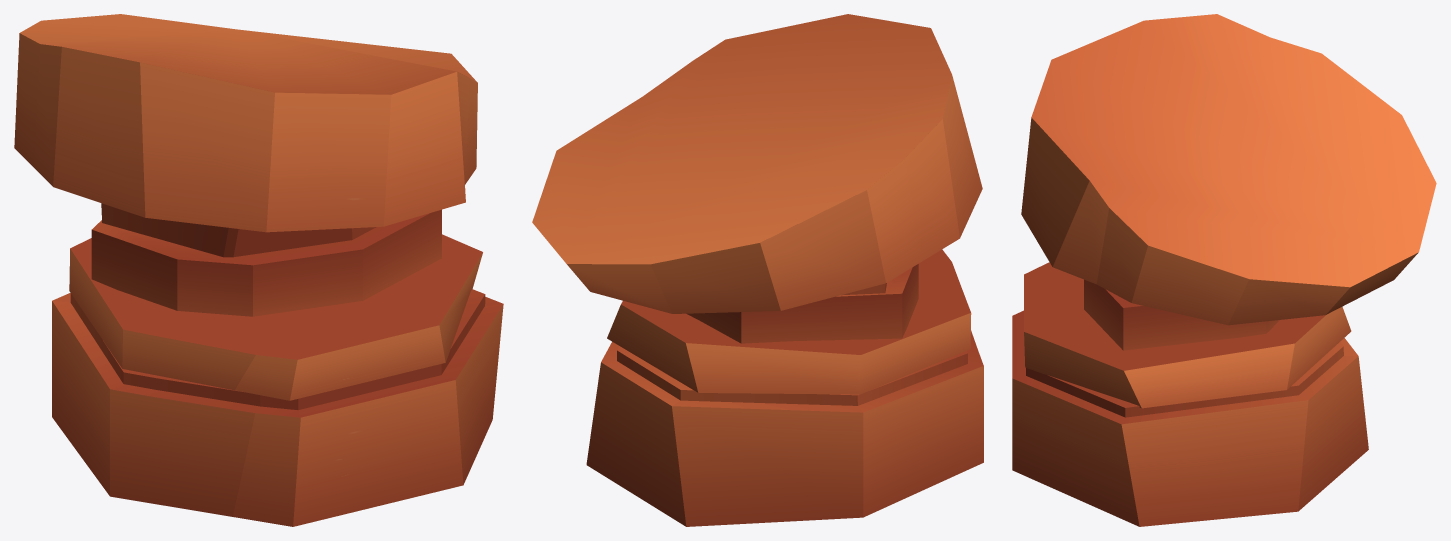
The model's file is PedraModels2.fbx.
3 renders of one model, left to right at view 1: azimuth 30°, elevation 25°; view 2: azimuth 150°, elevation 25°; view 3: azimuth 270°, elevation 25°, orthographic. The views are drawn at different scales.
Parts seen in each view (by area): view 1: Cylinder; view 2: Cylinder; view 3: Cylinder.
Part boxes in pixels (x1,y1,x2,y2): Cylinder: (14, 14, 503, 526); Cylinder: (532, 14, 983, 526); Cylinder: (1012, 14, 1436, 526).
Size of the model in its own units: 152 by 152 by 160.
Materials: 1 (1 with a texture image).
